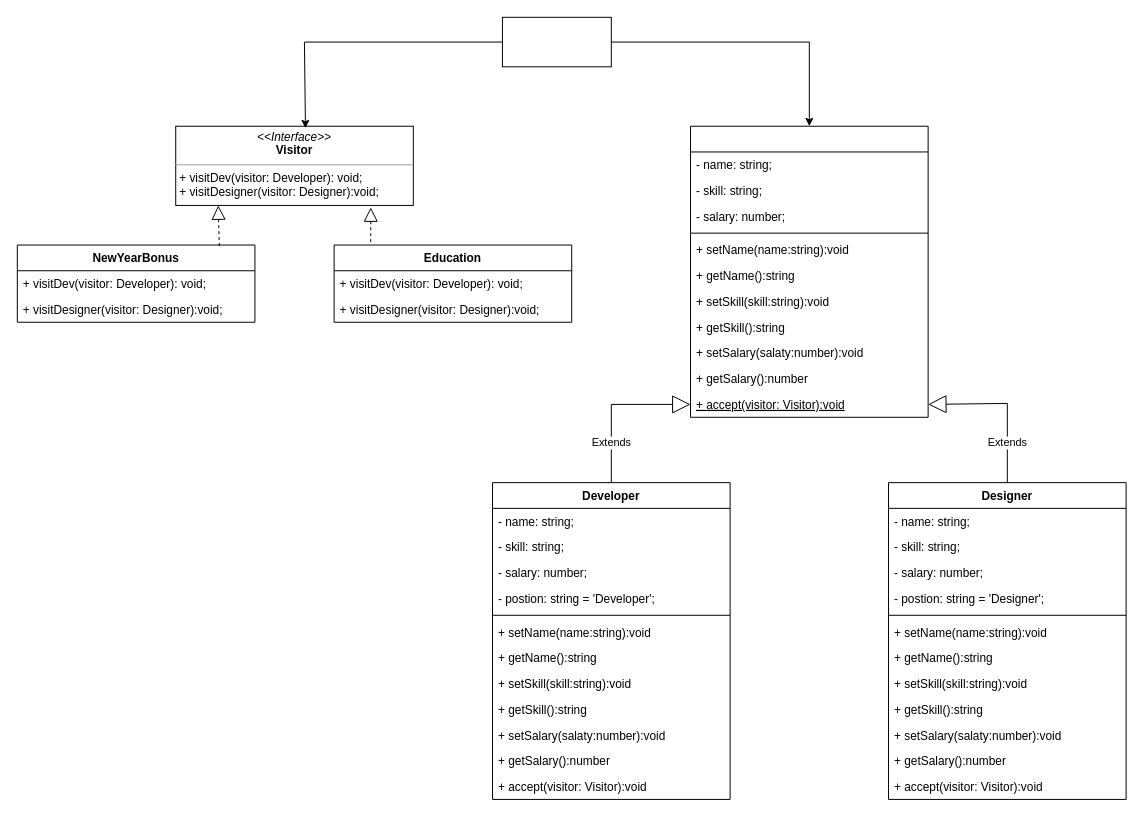
Some shapes in this 1143 by 820 pixel diagram are drawn without their labels. The box of each missing label's shape, as (x1, y1, x2, y2) in pixels:
Client: (501, 16, 611, 67)
Employee: (690, 125, 928, 417)
